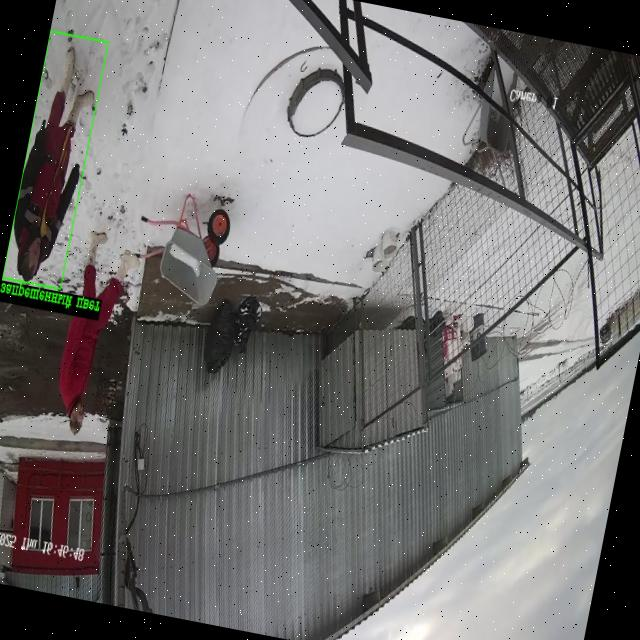Person: (200, 195, 236, 268)
Red uniform: (12, 47, 94, 281), (59, 255, 127, 435), (83, 233, 107, 297)
